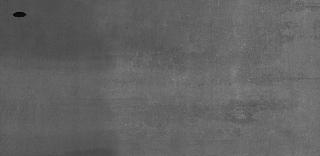punching hole: (10, 10, 28, 18)
